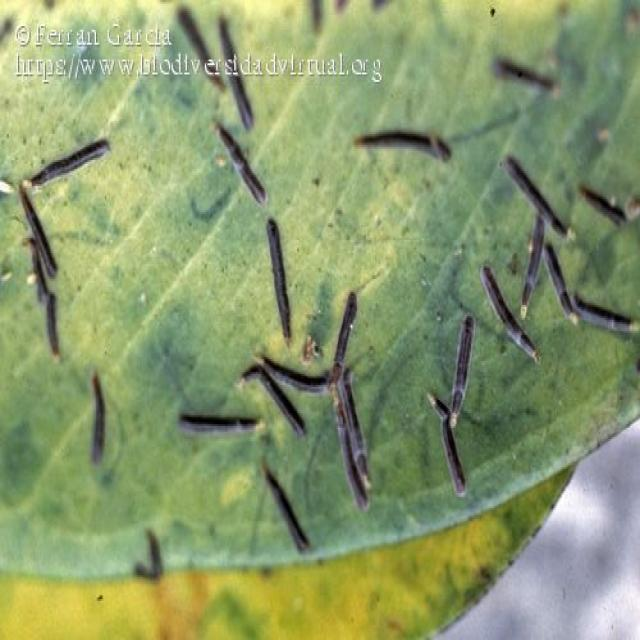IschnaspisLongirostris: (493, 146, 583, 252), (324, 373, 390, 510), (206, 113, 281, 220), (255, 458, 328, 562), (255, 211, 302, 345), (349, 122, 461, 176), (3, 143, 136, 187), (479, 40, 568, 96), (176, 403, 271, 446), (446, 307, 478, 428), (519, 208, 550, 326), (576, 157, 630, 224), (86, 363, 114, 473), (330, 285, 360, 384), (48, 295, 58, 373)
